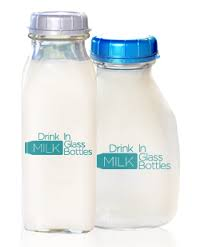milk: (85, 26, 181, 232), (13, 7, 95, 232)
